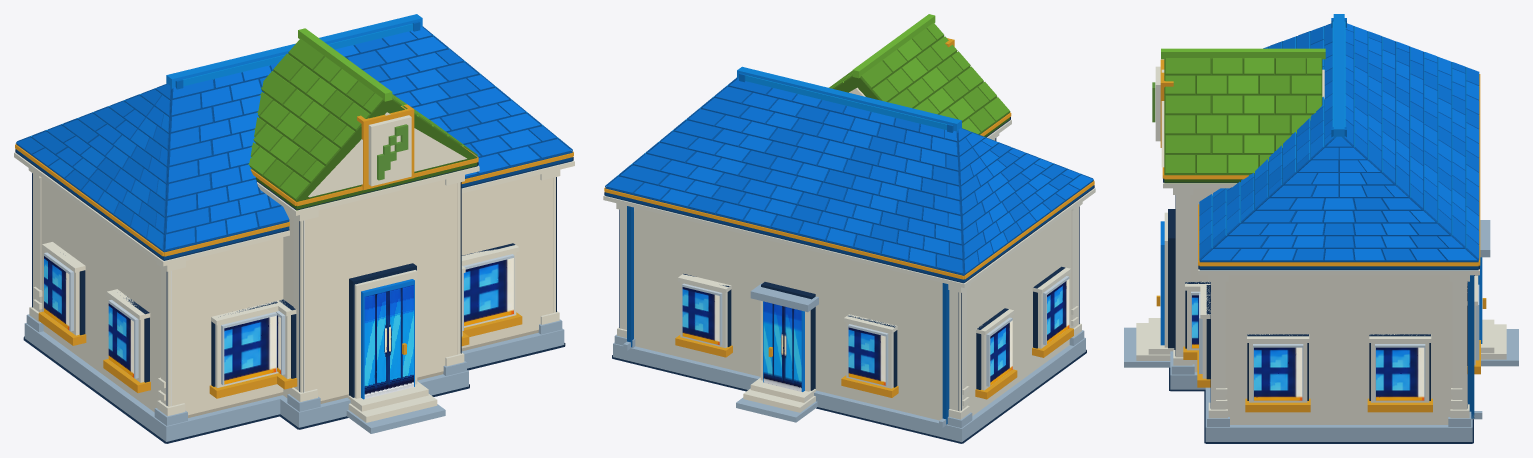
The picture shows the model from 3 angles, left to right: view 1: azimuth 30°, elevation 25°; view 2: azimuth 150°, elevation 25°; view 3: azimuth 270°, elevation 25°; orthographic projection. The views are drawn at different scales.
Visible parts, largest first — view 1: B09 社区活动中心; view 2: B09 社区活动中心; view 3: B09 社区活动中心.
Boxes of the visible parts, x1,y1,x2,y2 form: B09 社区活动中心: (14,14,574,443); B09 社区活动中心: (603,14,1095,443); B09 社区活动中心: (1124,14,1518,443).
Bounding box in the file's own units: 8.4 × 6.21 × 7.37.
2 materials, 1 textured.
